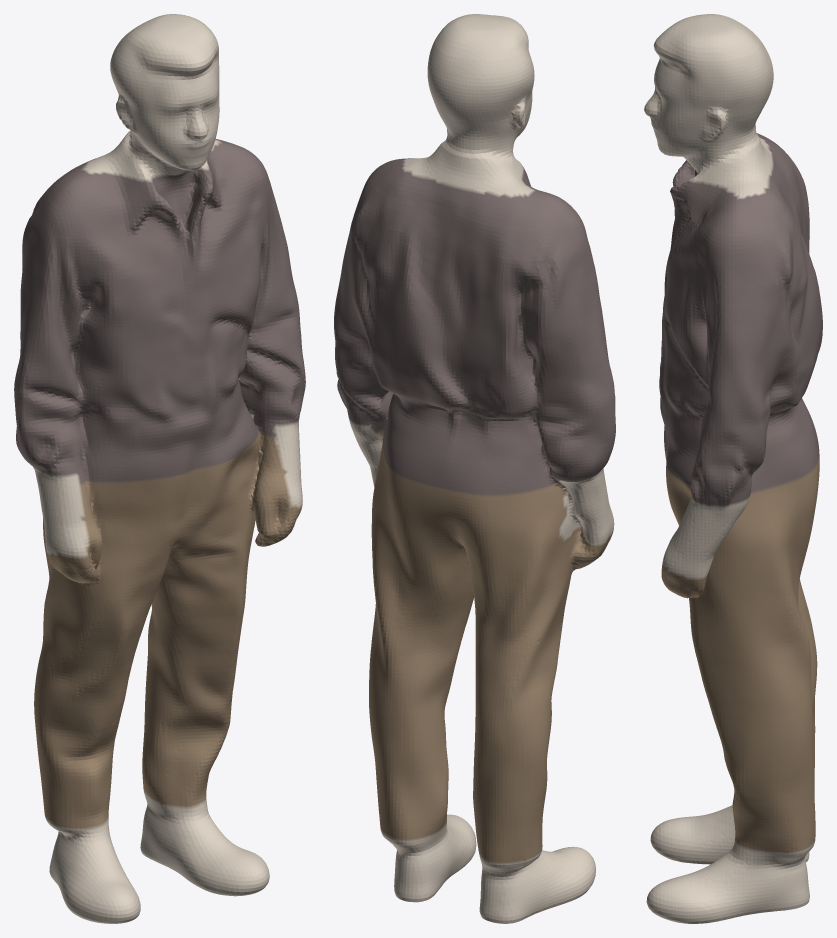
Rendered from shirt6_pant5.glb.
3 views of the same model, side by side, from view 1: azimuth 30°, elevation 25°; view 2: azimuth 150°, elevation 25°; view 3: azimuth 270°, elevation 25° (orthographic).
Parts seen in each view (by area): view 1: geometry_0; view 2: geometry_0; view 3: geometry_0.
Part boxes in pixels (left/top/right/bottom): geometry_0: left=14, top=14, right=305, bottom=923; geometry_0: left=334, top=14, right=615, bottom=923; geometry_0: left=644, top=14, right=822, bottom=923.
Bounding box in the file's own units: 0.6743 × 1.99 × 0.3729.
